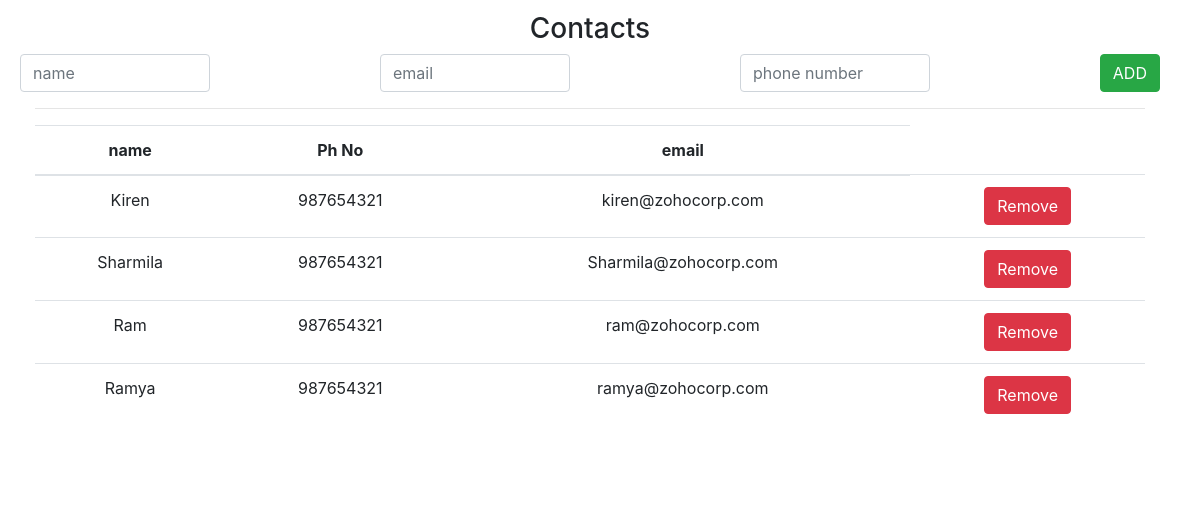
Scenario: Adding New Contacts
This screenshot has width=1181, height=506.
In the field labelled "name": (115, 73) [20, 54, 210, 92], type "Itachi Uchiha"
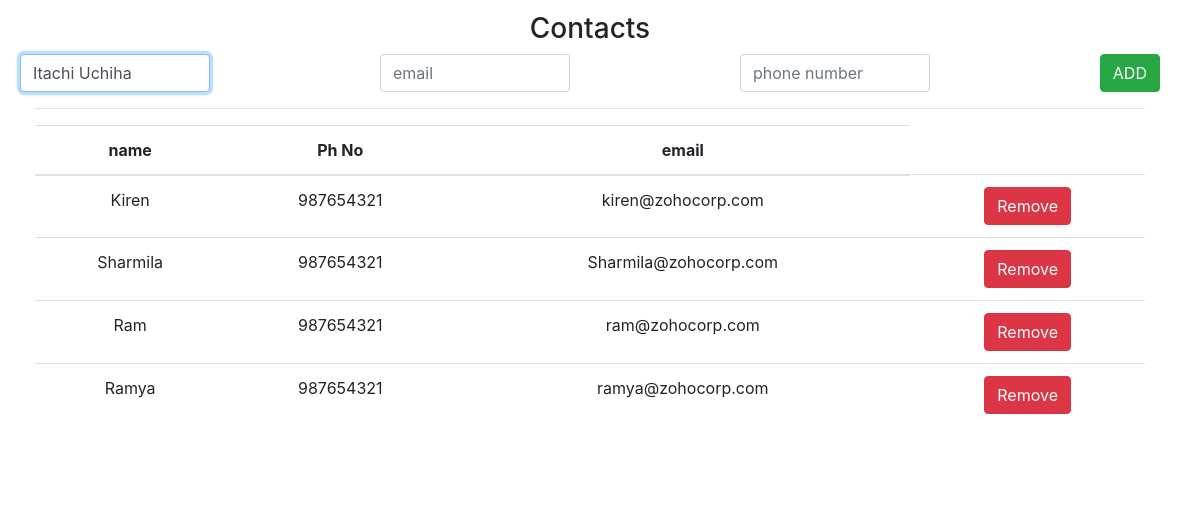
In the field labelled "email": (475, 73) [380, 54, 570, 92], type "mangekyou@gmail.com"
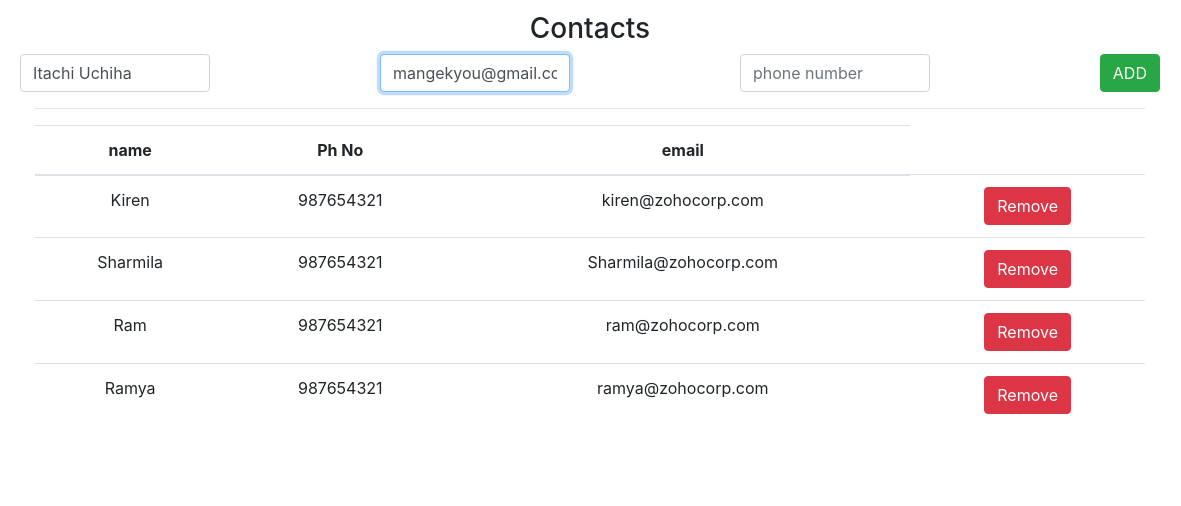
In the field labelled "phone number": (835, 73) [740, 54, 930, 92], type "9988776655"
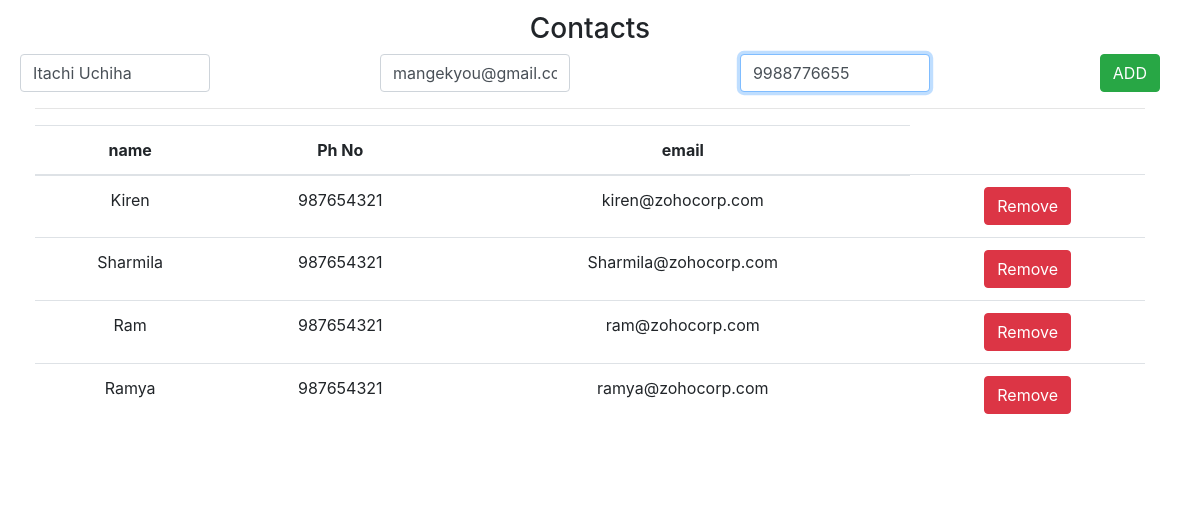
Click the button "ADD": (1130, 73) [1100, 54, 1160, 92]
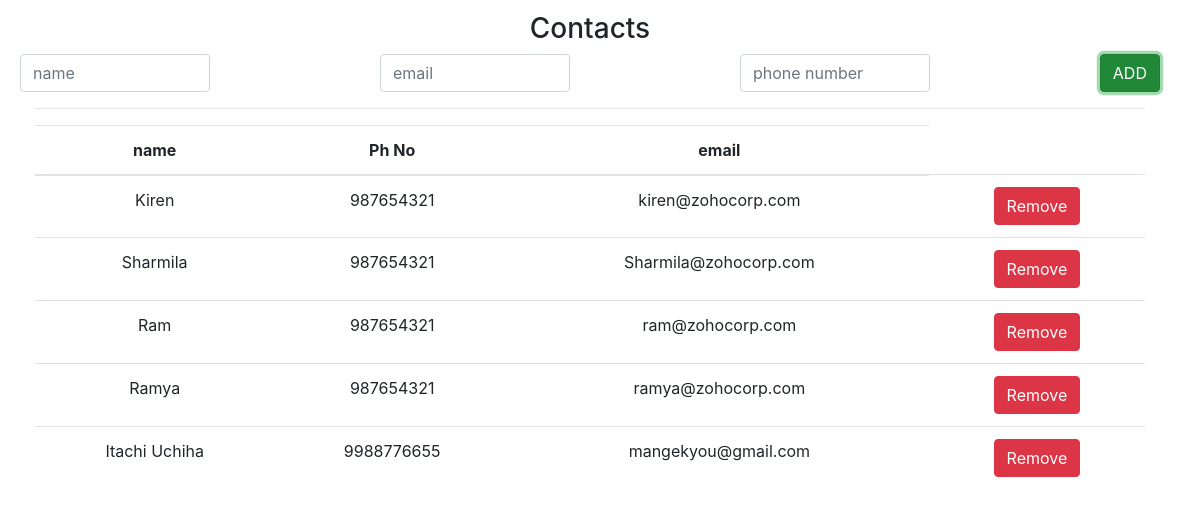
expect the text "mangekyou@gmail.com" is shown: met, box [510, 427, 929, 489]
expect the number of rows is 6: met, box [35, 125, 1145, 175]; [35, 175, 1145, 238]; [35, 238, 1145, 301]; [35, 301, 1145, 364]; [35, 364, 1145, 427]; [35, 427, 1145, 489]
